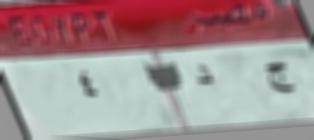4: (75, 69, 101, 108)
daal: (191, 56, 220, 96)
jeem: (258, 54, 301, 100)
